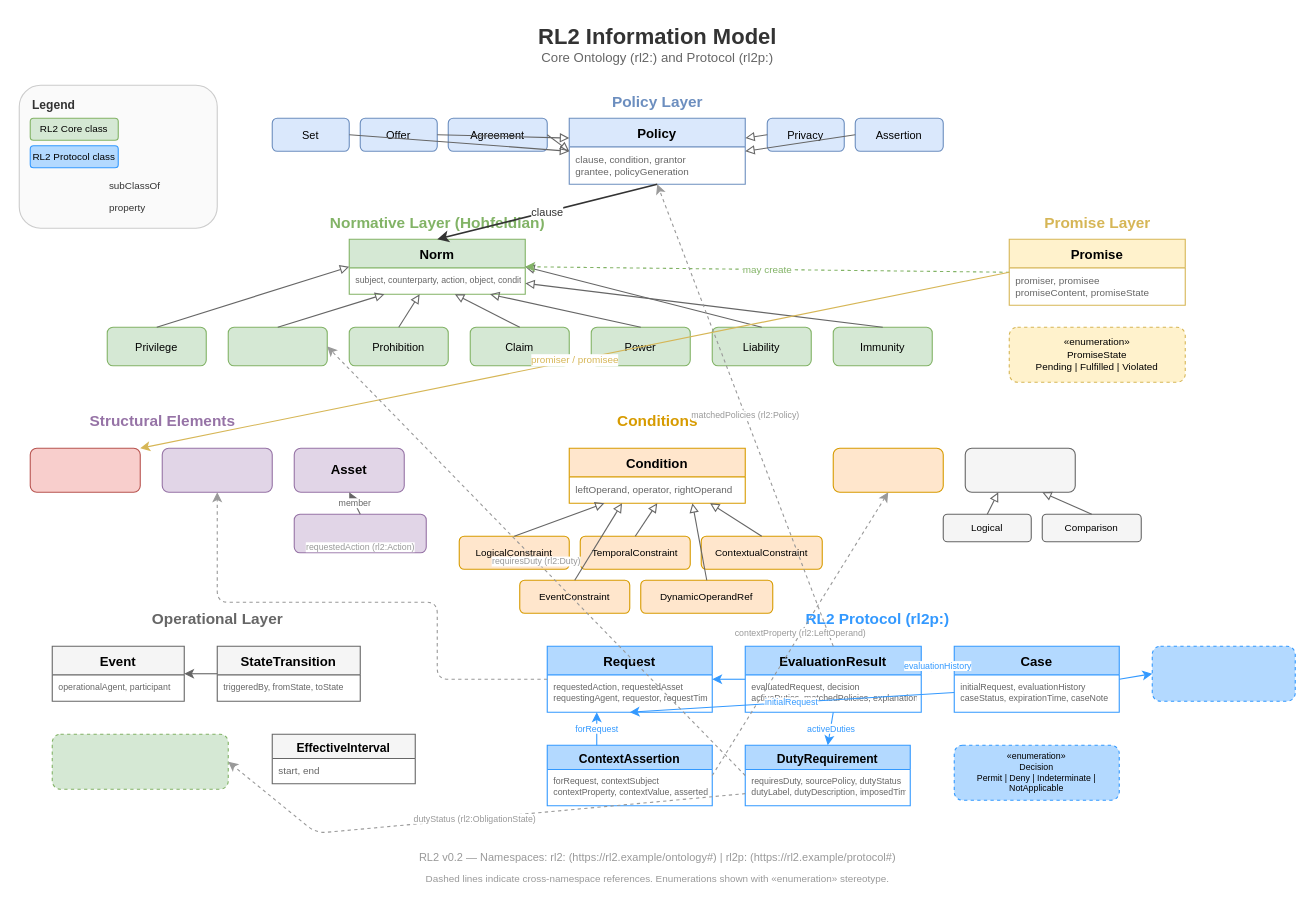
This 1315x906 diagram has some shape labels left out. Here are the shapes that lost their labels. From the top down, the centre of each, then its label:
At pixel 277 346: "Duty".
At pixel 84 469: "Agent".
At pixel 216 469: "Action".
At pixel 887 469: "LeftOperand".
At pixel 1019 469: "Operator".
At pixel 359 533: "AssetCollection".
At pixel 1223 673: "«enumeration» CaseStatus Pending | Approved | Denied | Expired | Revoked".
At pixel 139 761: "«enumeration» ObligationState Pending | Active | Fulfilled | Violated".
